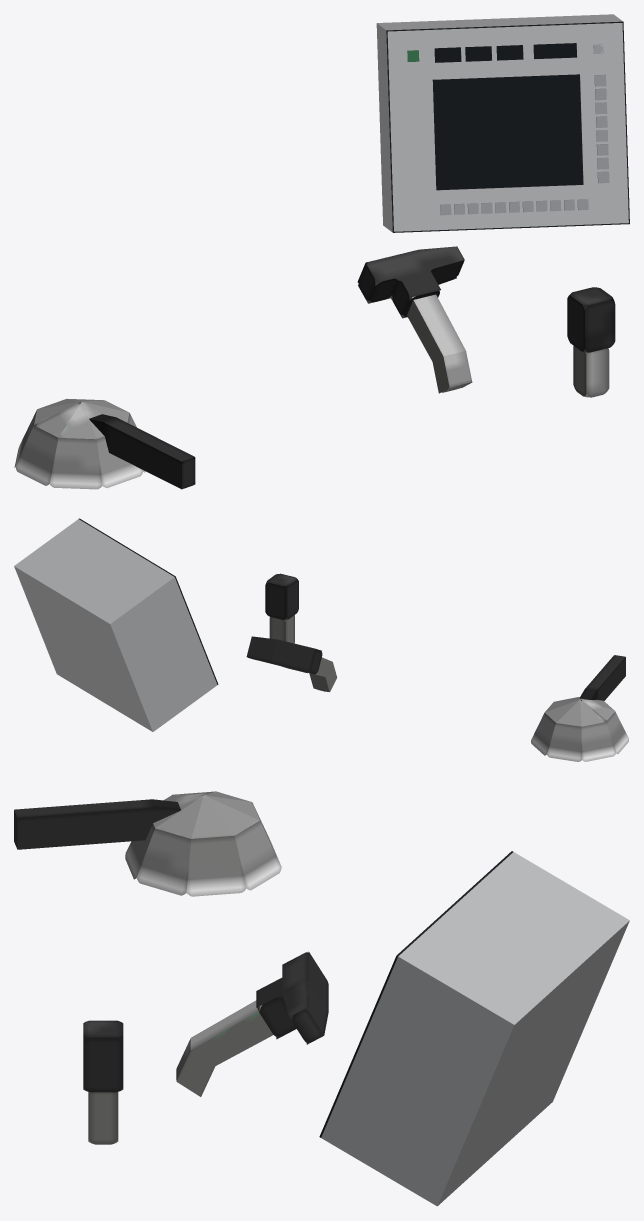
Rendered from item_controls.obj.
3 views of the same model, one above another, from view 1: azimuth 30°, elevation 25°; view 2: azimuth 150°, elevation 25°; view 3: azimuth 270°, elevation 25° (orthographic). The views are drawn at different scales.
Bounding box in the file's own units: 1.2 × 0.3847 × 0.7664.
